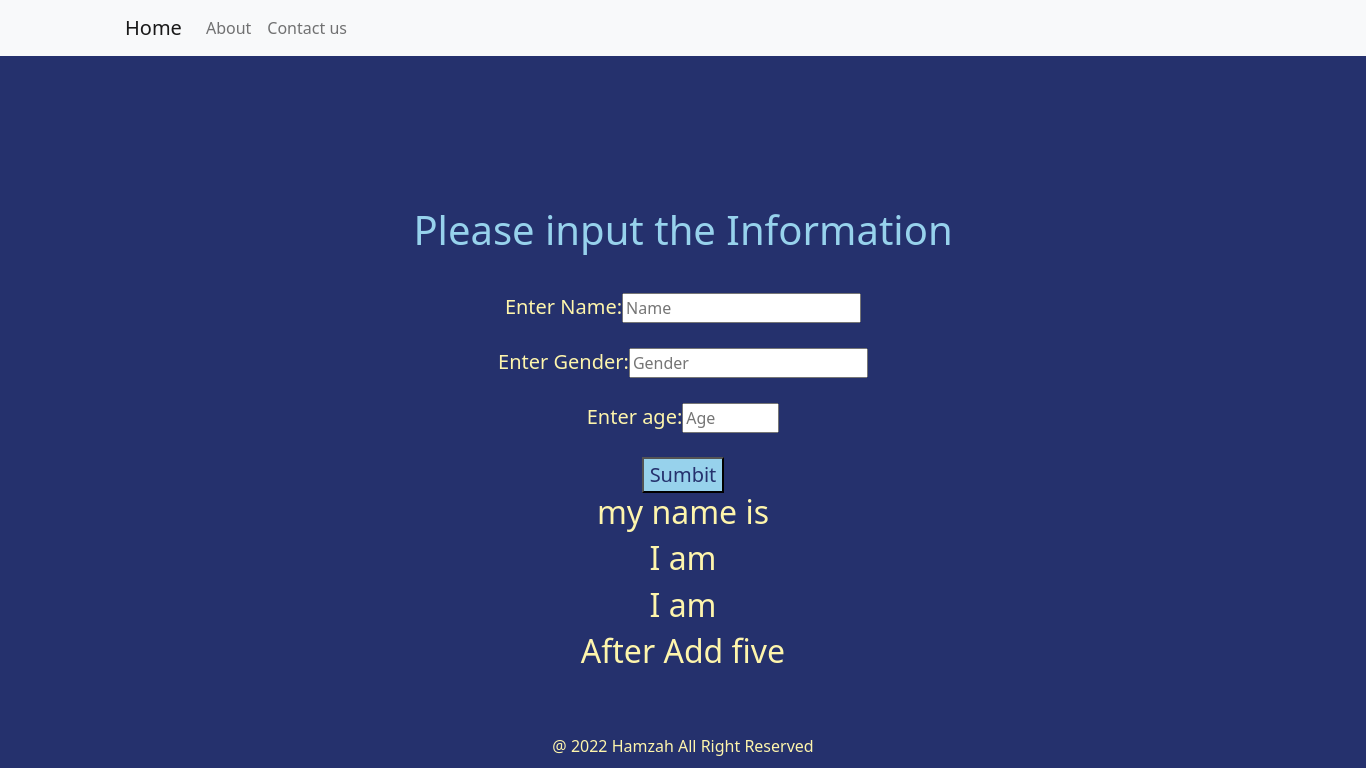
Test case: can change name
The image size is (1366, 768).
Step 1. Type "hamzah" into the field with test id "Name-input" → (742, 308), box 622,293 -> 861,323
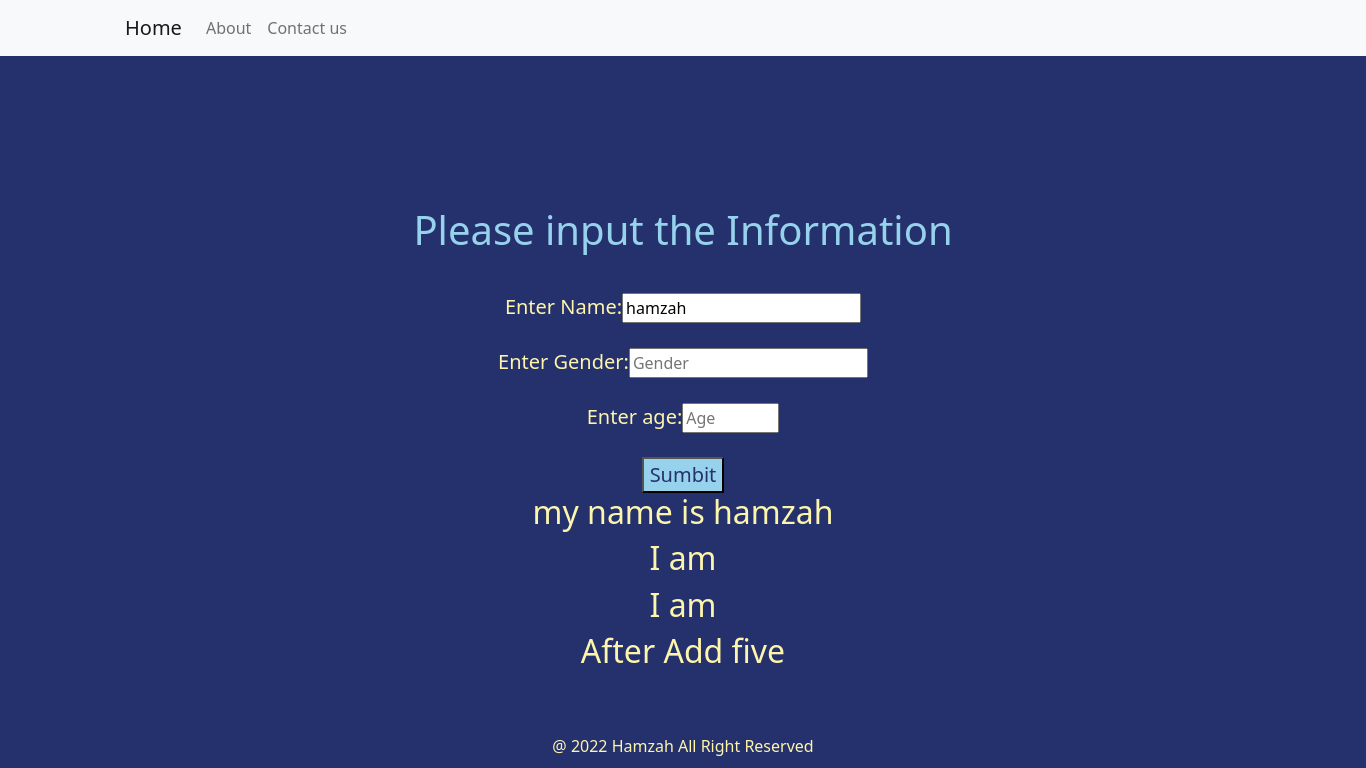
expect the heading with test id "Name" reads "my name is hamzah": met, box 532,490 -> 833,533
